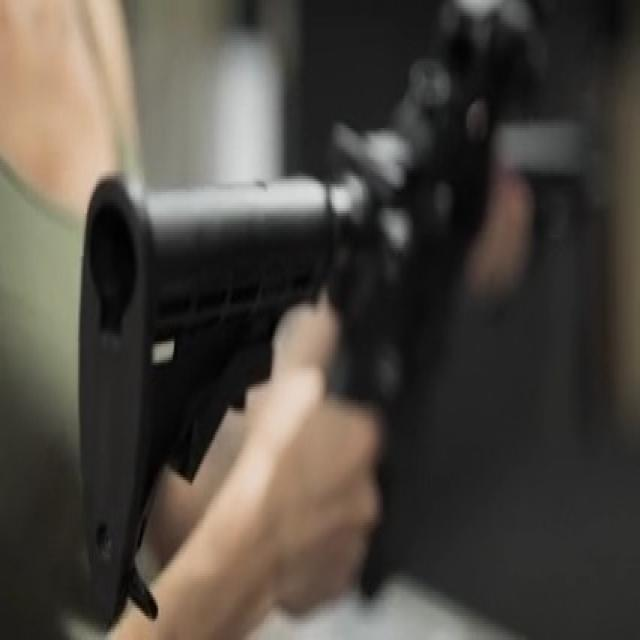Gun_Holder: (58, 0, 633, 640)
